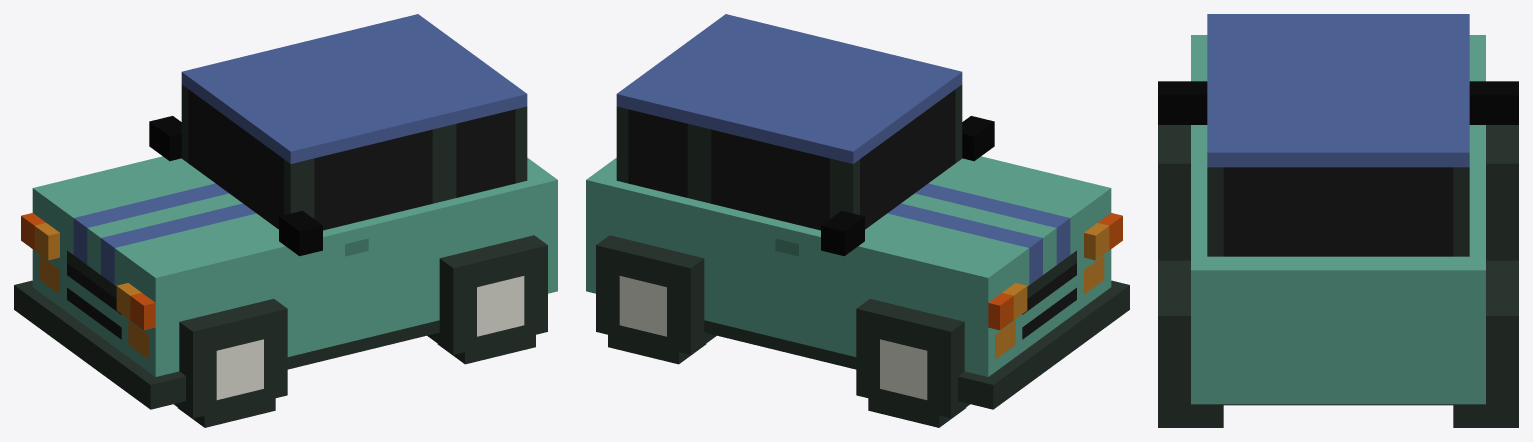
File: car_blue_len2.glb
The picture shows the model from 3 angles, left to right: view 1: azimuth 30°, elevation 25°; view 2: azimuth 150°, elevation 25°; view 3: azimuth 270°, elevation 25°; orthographic projection. The views are drawn at different scales.
Visible parts, largest first — view 1: _0; view 2: _0; view 3: _0.
Part boxes in pixels (<box>): _0: <box>14,14,557,427</box>; _0: <box>586,14,1129,427</box>; _0: <box>1158,14,1518,427</box>.
Bounding box in the file's own units: 0.0525 × 0.0285 × 0.033.
